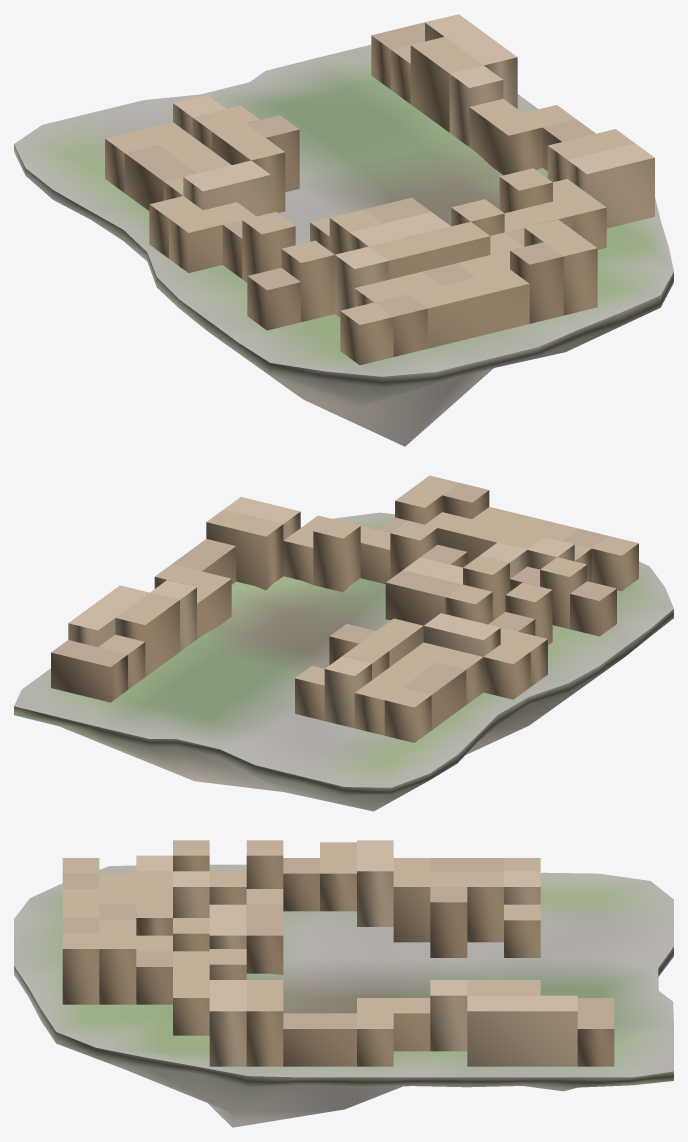
Rendered from SKY-093.lod1.glb.
3 views of the same model, one above another, from view 1: azimuth 30°, elevation 25°; view 2: azimuth 150°, elevation 25°; view 3: azimuth 270°, elevation 25° (orthographic). The views are drawn at different scales.
Visible parts, largest first — view 1: warren_hull, deck, rock; view 2: warren_hull, deck, rock; view 3: warren_hull, deck, rock.
Part boxes in pixels (x1,y1,x2,y2): warren_hull: (105,14,654,365); deck: (14,44,673,376); rock: (14,144,673,446); warren_hull: (51,475,638,742); deck: (14,512,673,787); rock: (14,609,673,811); warren_hull: (62,840,614,1066); deck: (14,864,673,1077); rock: (14,946,673,1127).
Size of the model in its own units: 82.08 by 40.55 by 108.
